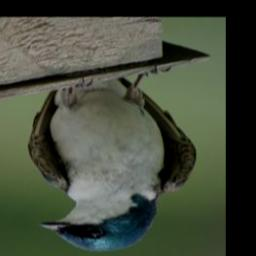Swallow: (25, 64, 197, 254)
